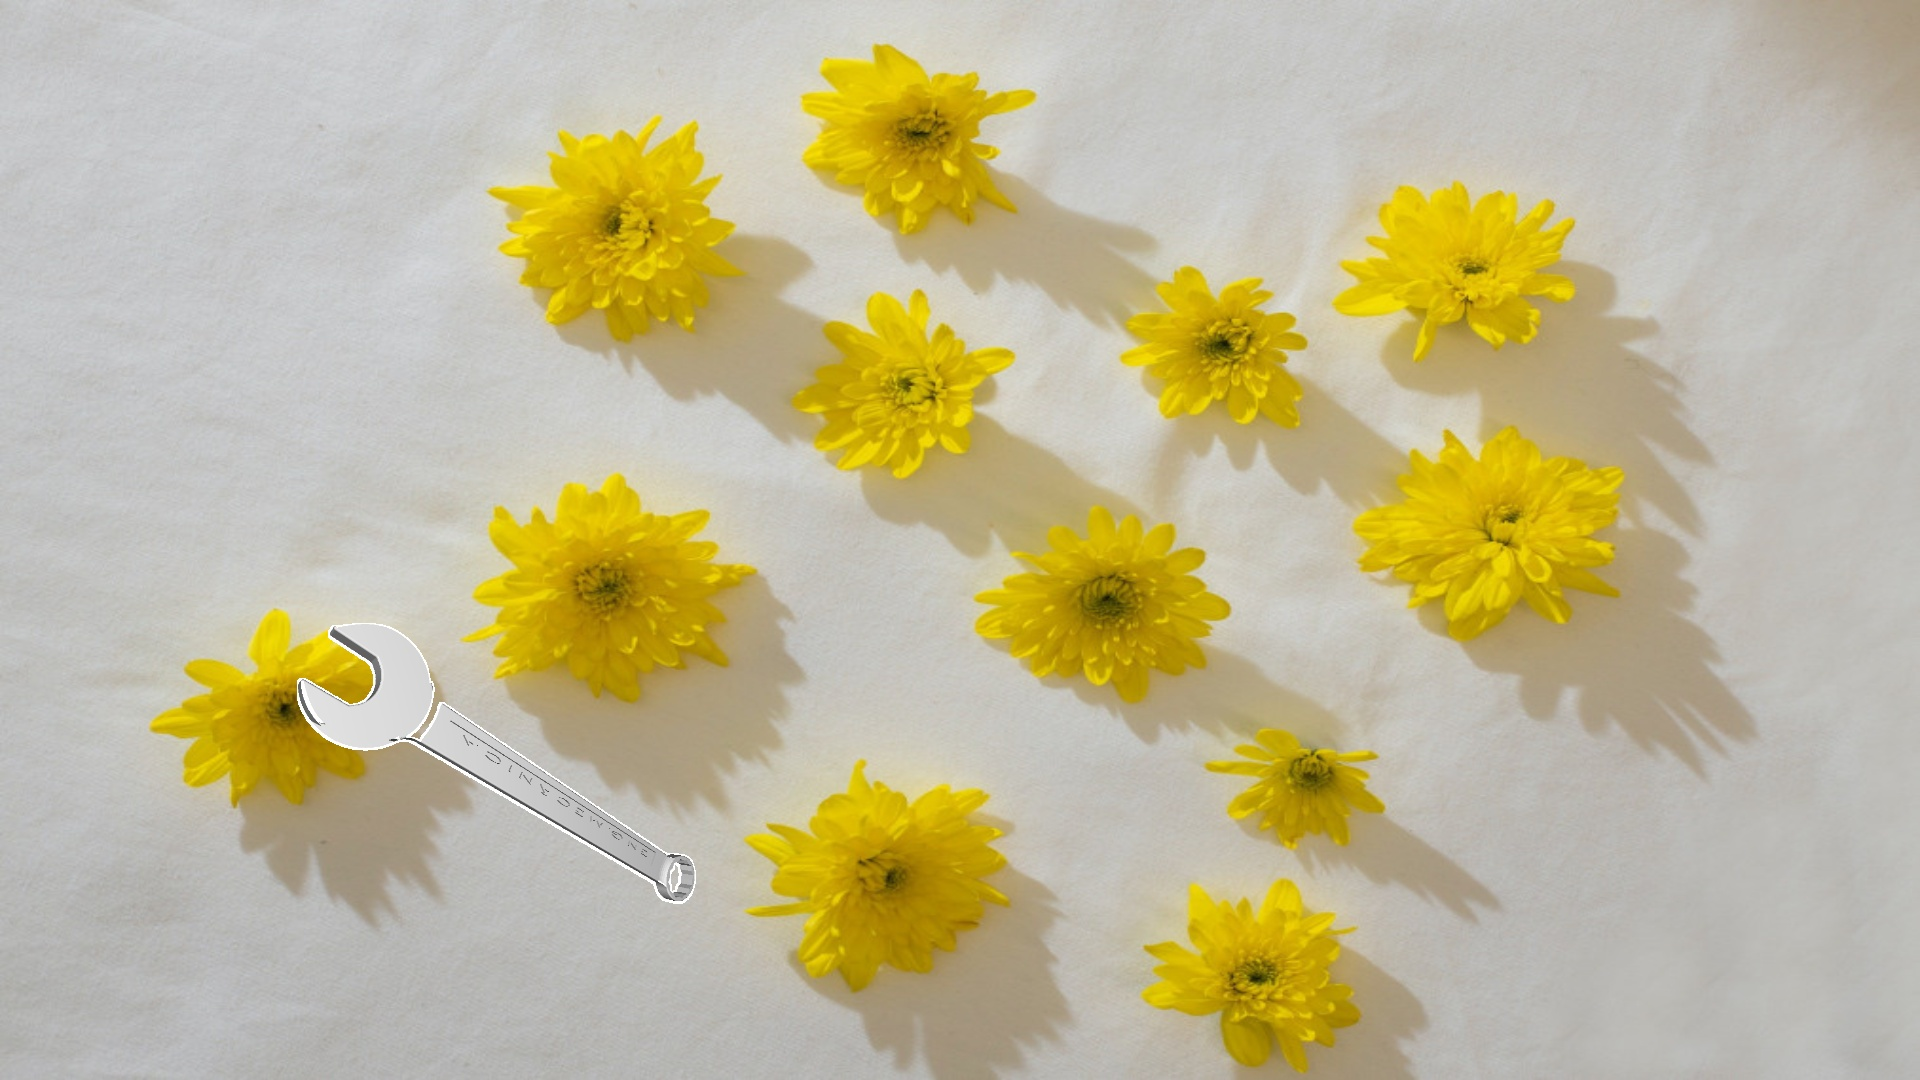Mixed Key: (297, 622, 695, 903)
